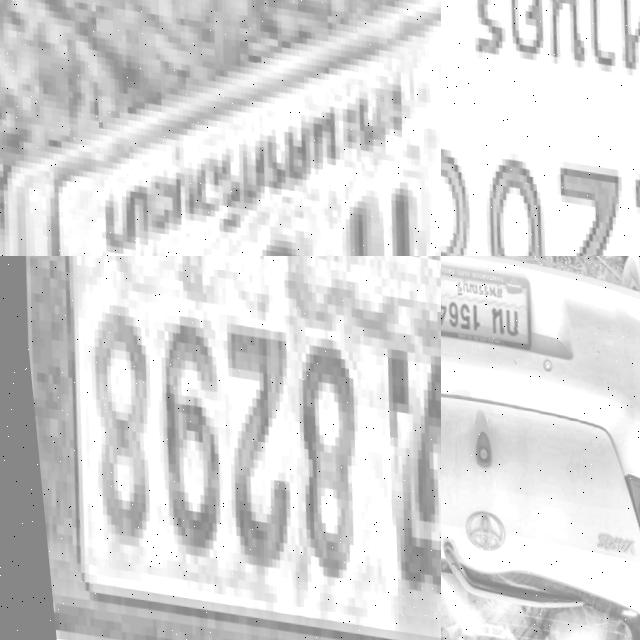license-plate: (0, 256, 441, 640), (0, 0, 441, 256), (441, 0, 640, 256), (441, 256, 535, 346)
